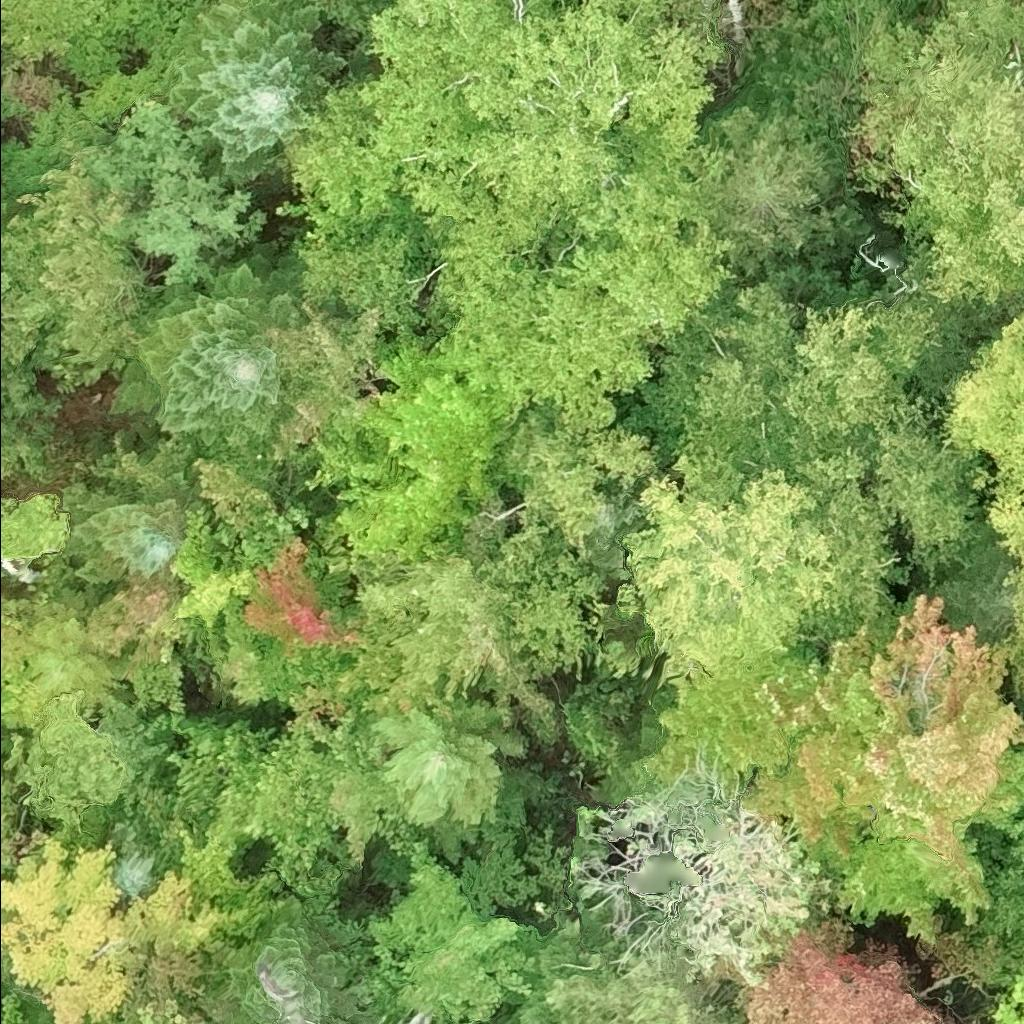crown: (276, 0, 726, 329), (741, 586, 1023, 946), (417, 155, 748, 435), (624, 278, 948, 474), (619, 451, 842, 693), (854, 7, 1023, 320), (108, 238, 309, 482), (573, 760, 788, 988), (310, 369, 511, 557), (167, 0, 350, 182), (366, 833, 539, 1023), (266, 305, 436, 491), (646, 647, 824, 804), (780, 443, 906, 662), (0, 836, 145, 1023), (491, 402, 663, 551), (928, 307, 1023, 569), (698, 91, 842, 261), (161, 499, 277, 708), (851, 418, 981, 583), (740, 916, 938, 1023), (359, 549, 512, 687), (369, 695, 506, 830), (226, 911, 362, 1023), (59, 467, 186, 586), (165, 712, 280, 842), (242, 535, 360, 661), (261, 734, 351, 886), (334, 610, 454, 722), (545, 956, 734, 1023), (0, 581, 101, 685), (119, 869, 236, 956), (326, 747, 404, 867), (968, 827, 1023, 989), (170, 815, 257, 912), (190, 451, 281, 543), (586, 475, 647, 569), (98, 818, 161, 909), (964, 0, 1023, 76), (995, 568, 1023, 700), (497, 971, 560, 1023), (991, 963, 1023, 1023), (133, 998, 207, 1023), (938, 0, 970, 17), (1016, 811, 1023, 823)
